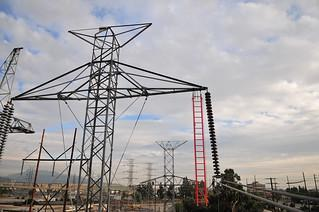power_tower: (19, 22, 194, 208)
